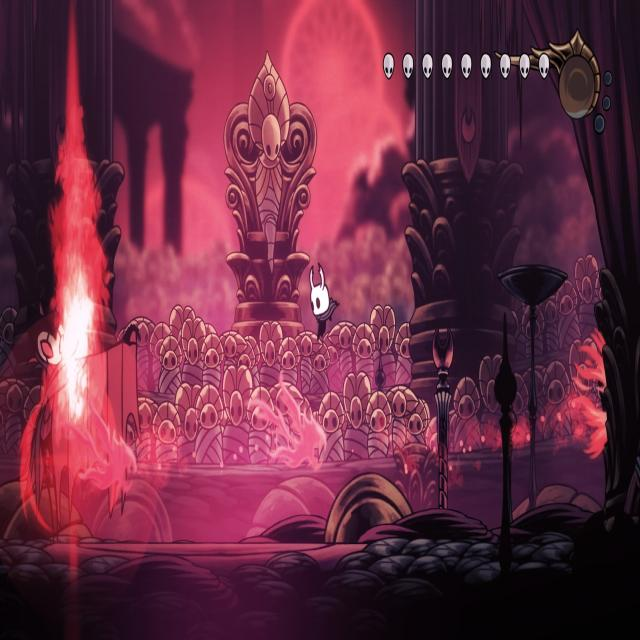Fire Bat: (64, 399, 138, 496), (252, 382, 326, 470), (568, 328, 606, 461)
Open Cloak: (20, 293, 143, 544)
Player: (304, 255, 340, 348)
